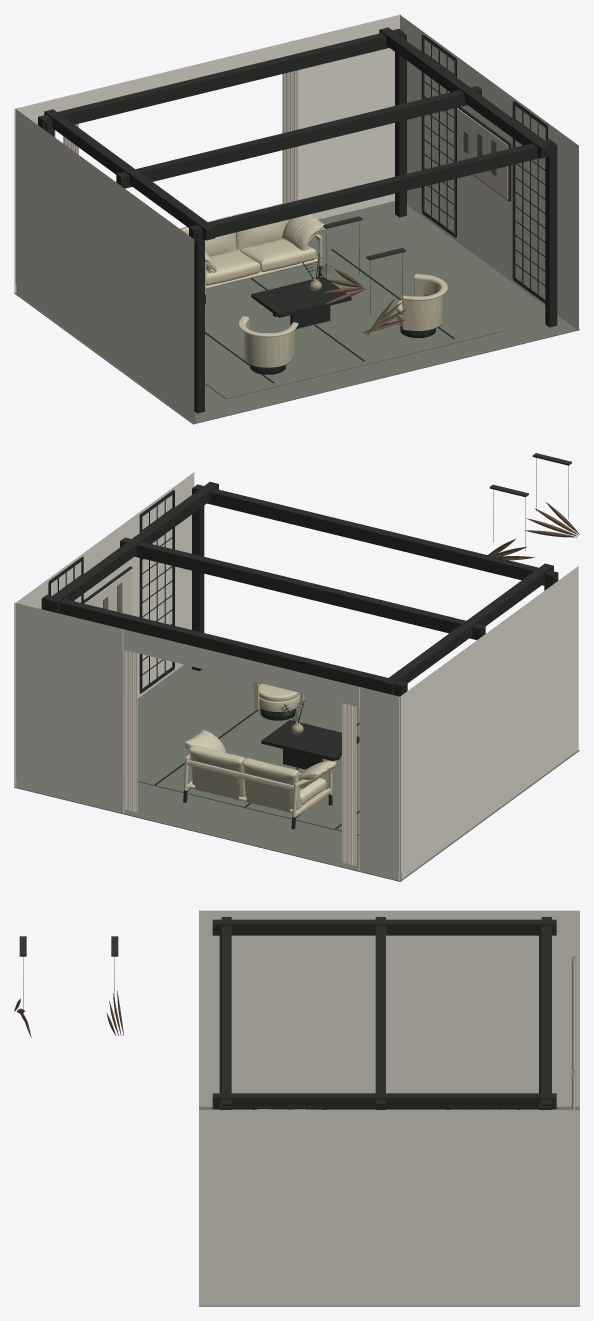
Rendered from great-1.glb.
3 renders of one model, top to bottom at view 1: azimuth 30°, elevation 25°; view 2: azimuth 150°, elevation 25°; view 3: azimuth 270°, elevation 25°, orthographic. The views are drawn at different scales.
Parts seen in each view (by area): view 1: DESIGN | great removable wall finish, DESIGN | Great room primary ground, DESIGN | great floor finish, DESIGN | Great room sofa facing conversation, DESIGN | Great room timber ceiling member.001, DESIGN | Great room timber ceiling member, DESIGN | Great room timber ceiling member.002, DESIGN | Great room structural edge.001, DESIGN | Great room structural edge, DESIGN | Required Bellustar swivel chair two, DESIGN | Great room timber end post.002, DESIGN | Required Bellustar swivel chair one (+9 smaller); view 2: DESIGN | great removable wall finish, DESIGN | great floor finish, DESIGN | Great room primary ground, DESIGN | Great room sofa facing conversation, DESIGN | Great room timber ceiling member.001, DESIGN | Great room timber ceiling member, DESIGN | Great room timber ceiling member.002, DESIGN | Great room structural edge, DESIGN | Great room structural edge.001, DESIGN | Great room soft window edge, DESIGN | Great room soft window edge.001, DESIGN | Great room conversation table top (+5 smaller); view 3: DESIGN | great removable wall finish, DESIGN | Great room structural edge, DESIGN | Great room structural edge.001, DESIGN | Great room timber ceiling member.001, DESIGN | Great room timber ceiling member.002, DESIGN | Great room timber ceiling member, DESIGN | great floor finish, DESIGN | Great room soft window edge.
Boxes of the visible parts, x1,y1,x2,y2 form: DESIGN | great removable wall finish: (14,14,578,423); DESIGN | Great room primary ground: (205,238,503,399); DESIGN | great floor finish: (14,201,579,424); DESIGN | Great room sofa facing conversation: (180,203,325,304); DESIGN | Great room timber ceiling member.001: (116,86,481,188); DESIGN | Great room timber ceiling member: (189,139,554,242); DESIGN | Great room timber ceiling member.002: (38,28,403,130); DESIGN | Great room structural edge.001: (379,27,550,158); DESIGN | Great room structural edge: (44,109,215,240); DESIGN | Required Bellustar swivel chair two: (395,274,447,337); DESIGN | Great room timber end post.002: (545,143,557,327); DESIGN | Required Bellustar swivel chair one: (238,316,298,374); DESIGN | great removable wall finish: (14,472,578,880); DESIGN | great floor finish: (14,664,579,881); DESIGN | Great room primary ground: (137,682,359,835); DESIGN | Great room sofa facing conversation: (183,729,336,829); DESIGN | Great room timber ceiling member.001: (120,537,485,639); DESIGN | Great room timber ceiling member: (192,484,558,586); DESIGN | Great room timber ceiling member.002: (42,594,407,696); DESIGN | Great room structural edge: (383,563,553,694); DESIGN | Great room structural edge.001: (48,482,218,612); DESIGN | Great room soft window edge: (342,703,356,866); DESIGN | Great room soft window edge.001: (123,650,137,812); DESIGN | Great room conversation table top: (261,720,359,761); DESIGN | great removable wall finish: (199,910,579,1305); DESIGN | Great room structural edge: (212,919,556,935); DESIGN | Great room structural edge.001: (212,1093,556,1109); DESIGN | Great room timber ceiling member.001: (375,917,385,1109); DESIGN | Great room timber ceiling member.002: (541,917,551,1109); DESIGN | Great room timber ceiling member: (221,917,231,1109); DESIGN | great floor finish: (199,1106,579,1306); DESIGN | Great room soft window edge: (571,956,575,1070).
Size of the model in its own units: 6 by 3.04 by 7.16.
